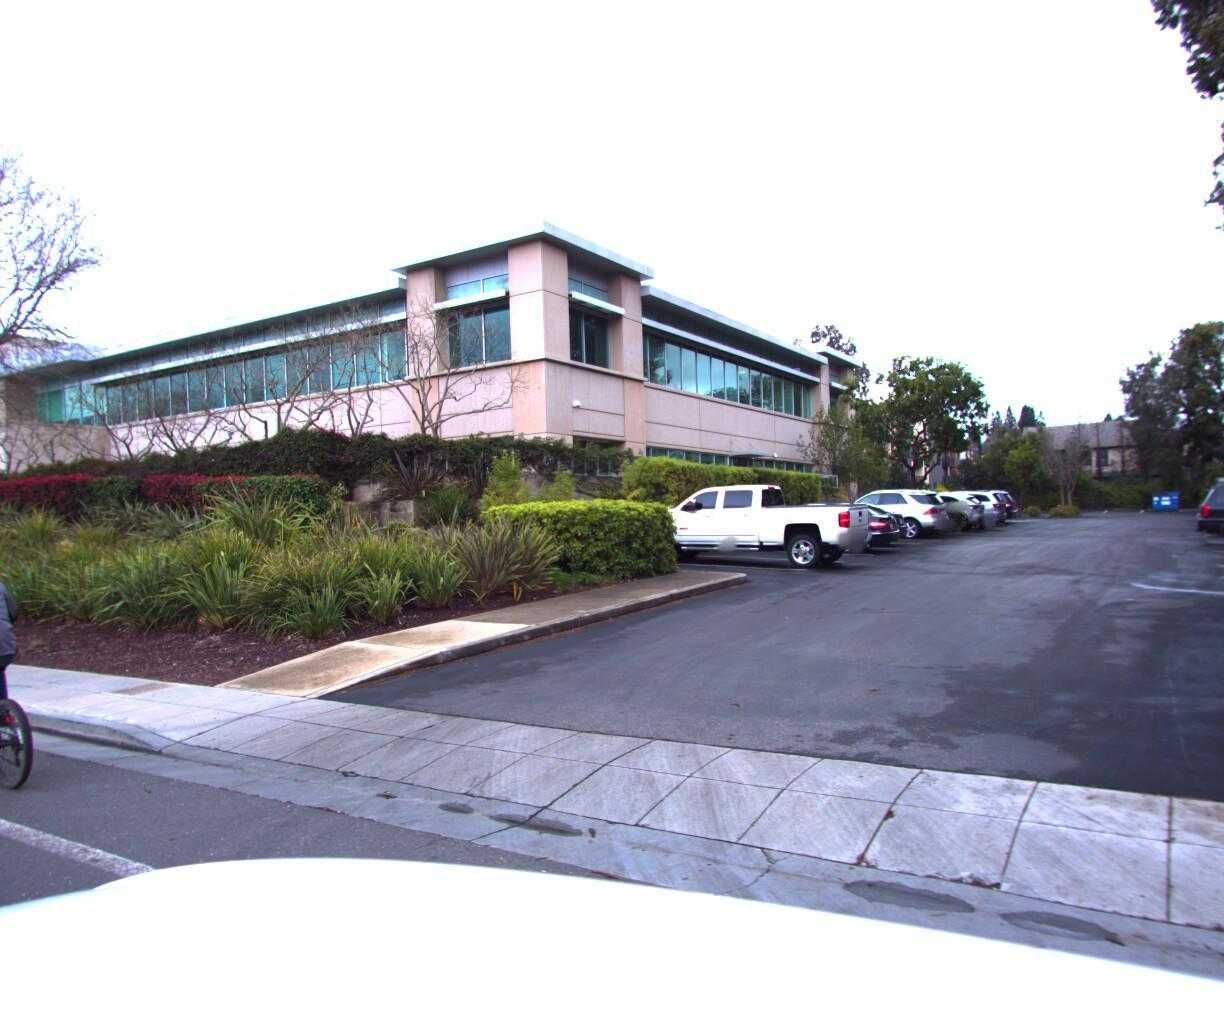bicycle: (0, 525, 118, 823)
